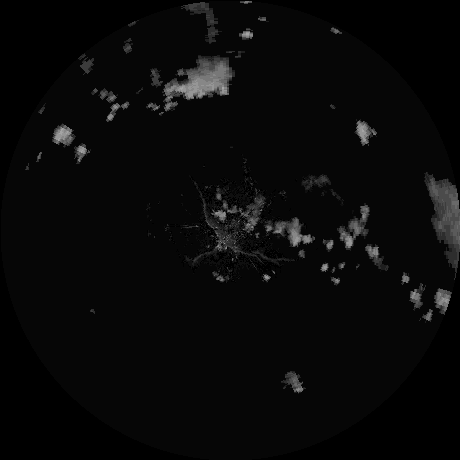frontgust: (200, 197, 275, 259)
